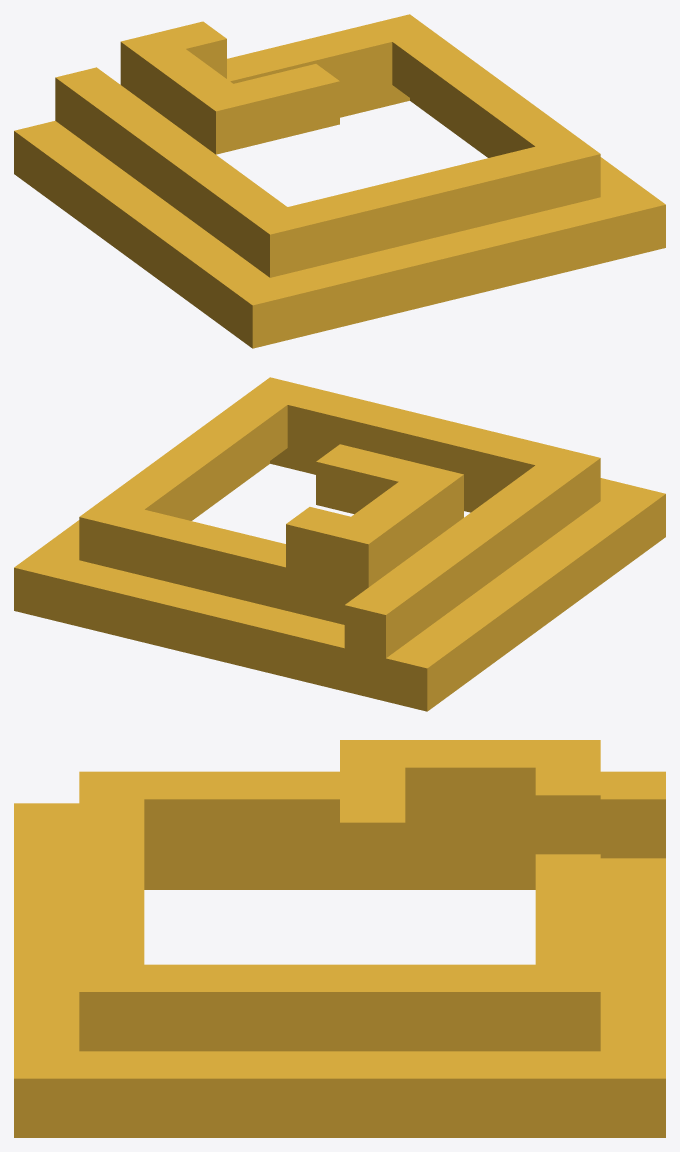
File: Roop2.fbx
The picture shows the model from 3 angles, top to bottom: view 1: azimuth 30°, elevation 25°; view 2: azimuth 150°, elevation 25°; view 3: azimuth 270°, elevation 25°; orthographic projection. The views are drawn at different scales.
Parts seen in each view (by area): view 1: Roop2; view 2: Roop2; view 3: Roop2.
Part boxes in pixels (x1,y1,x2,y2): Roop2: [14, 14, 665, 348]; Roop2: [14, 377, 665, 711]; Roop2: [14, 740, 665, 1137].
Size of the model in its own units: 10 by 3 by 10.
Materials: 1 (1 with a texture image).
